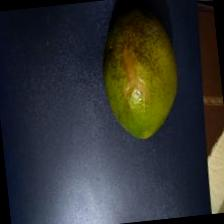Orange Rotten: (92, 0, 189, 157)
